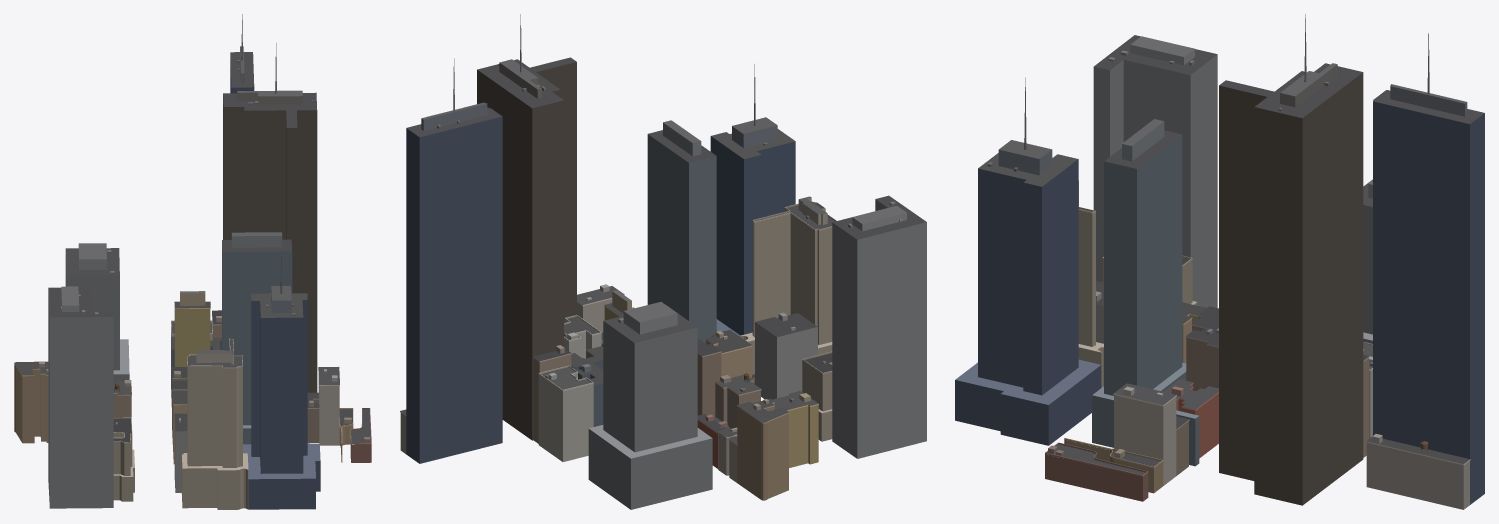
Rendered from 1_2.bld.glb.
3 renders of one model, left to right at view 1: azimuth 30°, elevation 25°; view 2: azimuth 150°, elevation 25°; view 3: azimuth 270°, elevation 25°, orthographic. The views are drawn at different scales.
Visible parts, largest first — view 1: 1_2; view 2: 1_2; view 3: 1_2.
Part boxes in pixels (x1,y1,x2,y2): 1_2: [14, 14, 371, 509]; 1_2: [400, 14, 926, 509]; 1_2: [955, 14, 1484, 509].
Size of the model in its own units: 284 by 281 by 289.
